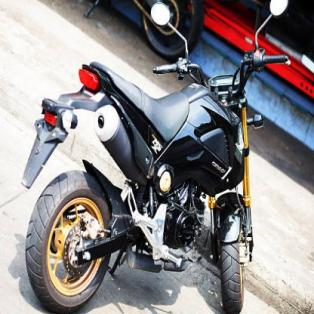Motocicleta: (15, 4, 282, 313)
